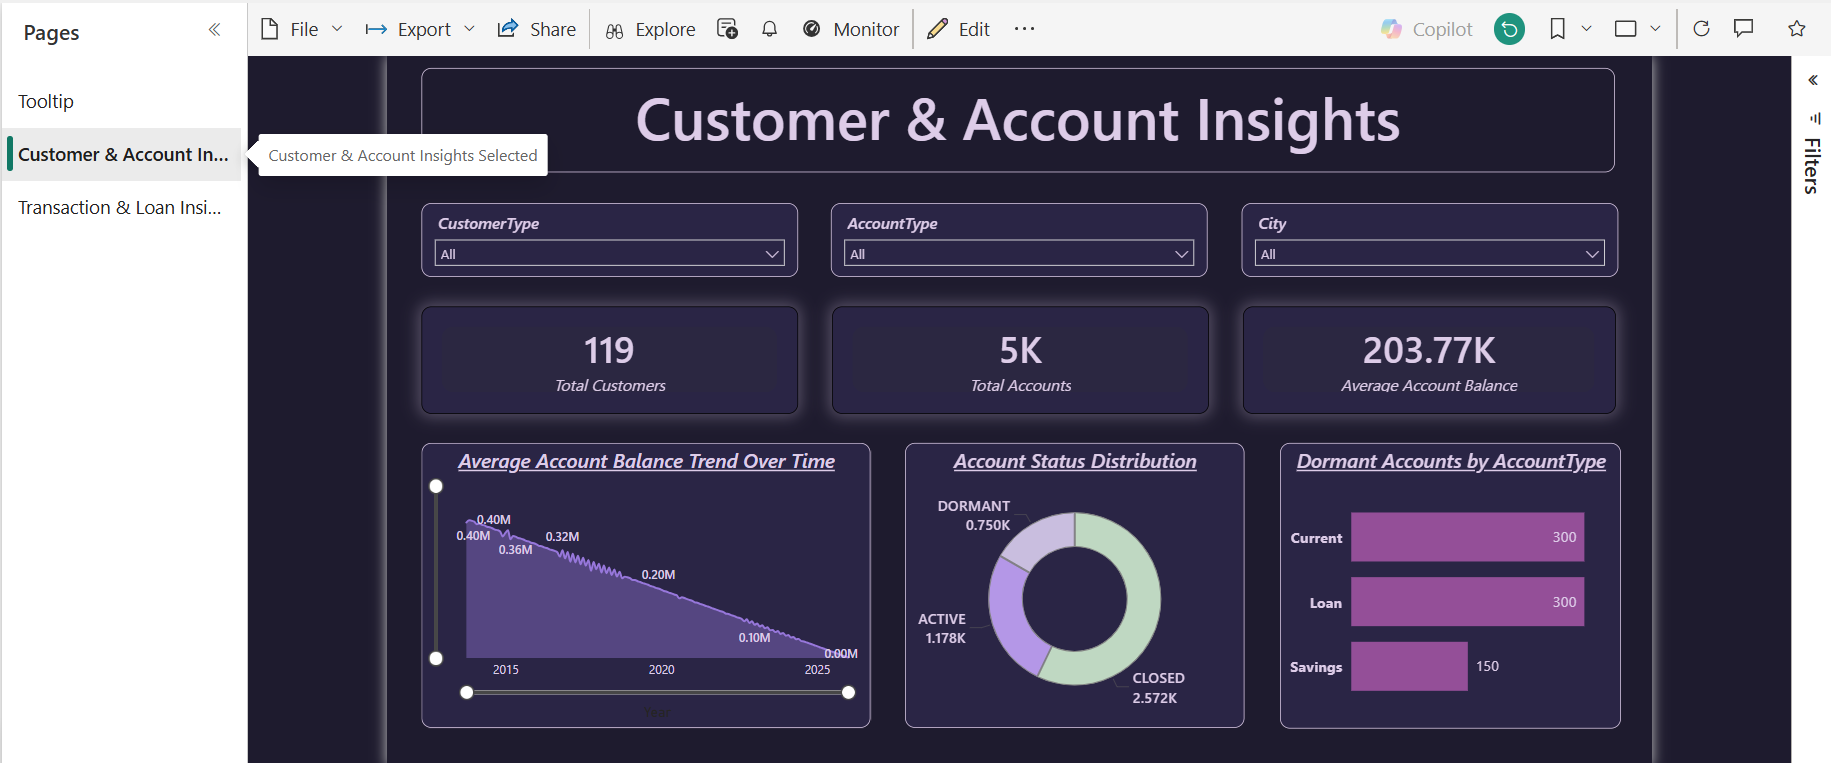

The dashboard page shown, as its layout file describes it:
{"tool":"powerbi","page":{"name":"Customer & Account Insights","canvas":[1280,720],"ordinal":1},"visuals":[{"type":"textbox","box":[35.2,11.7,1207.4,105.7],"z":0},{"type":"cardVisual","fields":{"Data":["KPIs for page 1.Total Customers"]},"box":[35.2,253.2,381.2,108.3],"z":1000},{"type":"cardVisual","fields":{"Data":["KPIs for page 1.Total Accounts"]},"box":[450.3,253.2,381.2,108.3],"z":2000},{"type":"cardVisual","fields":{"Data":["KPIs for page 1.Average Account Balance"]},"box":[865.4,253.4,377.2,108.3],"z":3000},{"type":"barChart","fields":{"Y":["KPIs for page 1.Dormant Accounts"],"Category":["Accounts.AccountType"]},"box":[903.2,391.9,345.2,288.7],"z":4000},{"type":"donutChart","title":"Account Status Distribution","fields":{"Y":["CountNonNull(Accounts.AccountID)"],"Category":["Accounts.AccountStatus"]},"box":[524.7,391.6,343.3,288.5],"z":5000},{"type":"slicer","fields":{"Values":["Customers.CustomerType"]},"box":[35.2,148.8,381.2,74.4],"z":6000},{"type":"slicer","fields":{"Values":["Accounts.AccountType"]},"box":[449.7,148.8,381.2,74.4],"z":7000},{"type":"slicer","fields":{"Values":["Customers.City"]},"box":[864.1,148.8,381.2,74.4],"z":8000},{"type":"lineChart","title":"Average Account Balance Trend Over Time","fields":{"Y":["KPIs for page 1.Average Account Balance"],"Category":["Accounts.AccountOpenDate.Variation.Date Hierarchy.Year","Accounts.AccountOpenDate.Variation.Date Hierarchy.Month"]},"box":[35.2,391.6,454.2,288.5],"z":9000}]}

Visuals, with their boxes on the page's 1280x720 design canvas (x1, y1, x2, y2). These are canvas units, not pixel positions in the 1831x763 screenshot, which may show the page scaled, cropped or inside an application window:
textbox: bbox(35, 12, 1243, 117)
cardVisual - KPIs for page 1.Total Customers: bbox(35, 253, 416, 362)
cardVisual - KPIs for page 1.Total Accounts: bbox(450, 253, 832, 362)
cardVisual - KPIs for page 1.Average Account Balance: bbox(865, 253, 1243, 362)
barChart - KPIs for page 1.Dormant Accounts x Accounts.AccountType: bbox(903, 392, 1248, 681)
"Account Status Distribution" donutChart: bbox(525, 392, 868, 680)
slicer - Customers.CustomerType: bbox(35, 149, 416, 223)
slicer - Accounts.AccountType: bbox(450, 149, 831, 223)
slicer - Customers.City: bbox(864, 149, 1245, 223)
"Average Account Balance Trend Over Time" lineChart: bbox(35, 392, 489, 680)
